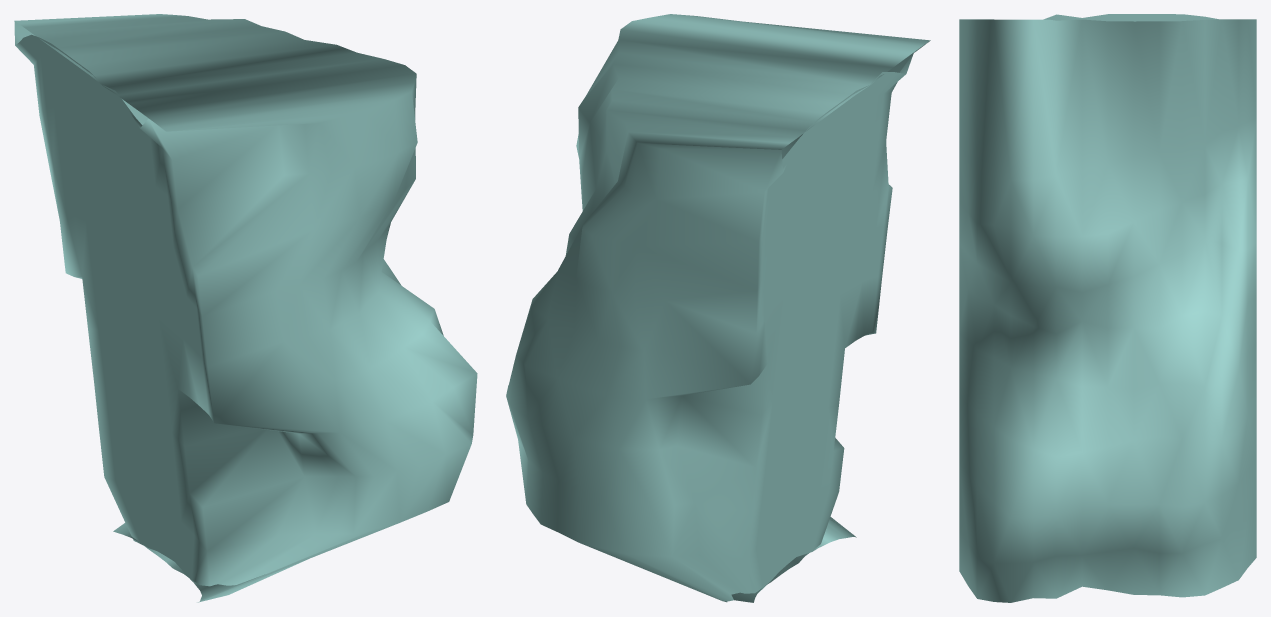
The model's file is icestage5.FBX.
3 views of the same model, side by side, from view 1: azimuth 30°, elevation 25°; view 2: azimuth 150°, elevation 25°; view 3: azimuth 270°, elevation 25° (orthographic).
Parts seen in each view (by area): view 1: Cylinder001; view 2: Cylinder001; view 3: Cylinder001.
Part boxes in pixels (x1,y1,x2,y2): Cylinder001: (14,14,477,602); Cylinder001: (506,14,930,602); Cylinder001: (959,14,1256,602).
Size of the model in its own units: 117 by 167 by 90.45.
1 material, 1 textured.
